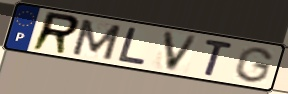G: (232, 46, 276, 85)
L: (116, 26, 148, 67)
M: (69, 17, 124, 62)
R: (29, 10, 82, 57)
T: (202, 37, 235, 79)
V: (161, 29, 201, 74)
